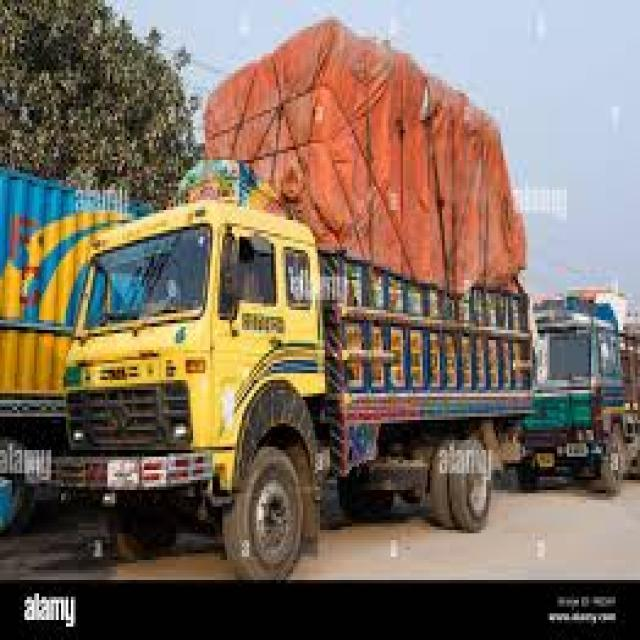uncovered: (62, 20, 528, 576), (531, 293, 640, 497)
